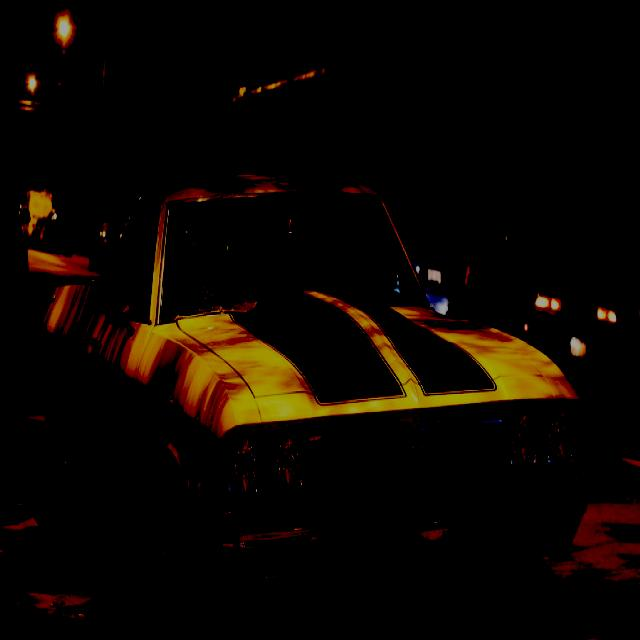Car: (38, 171, 587, 629)
